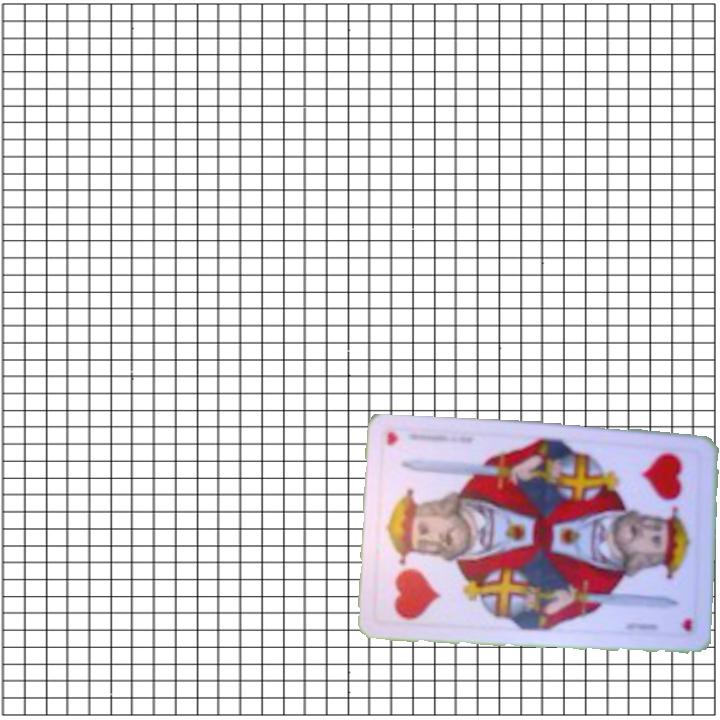h_k.png: (613, 441, 703, 545), (373, 524, 463, 628)
